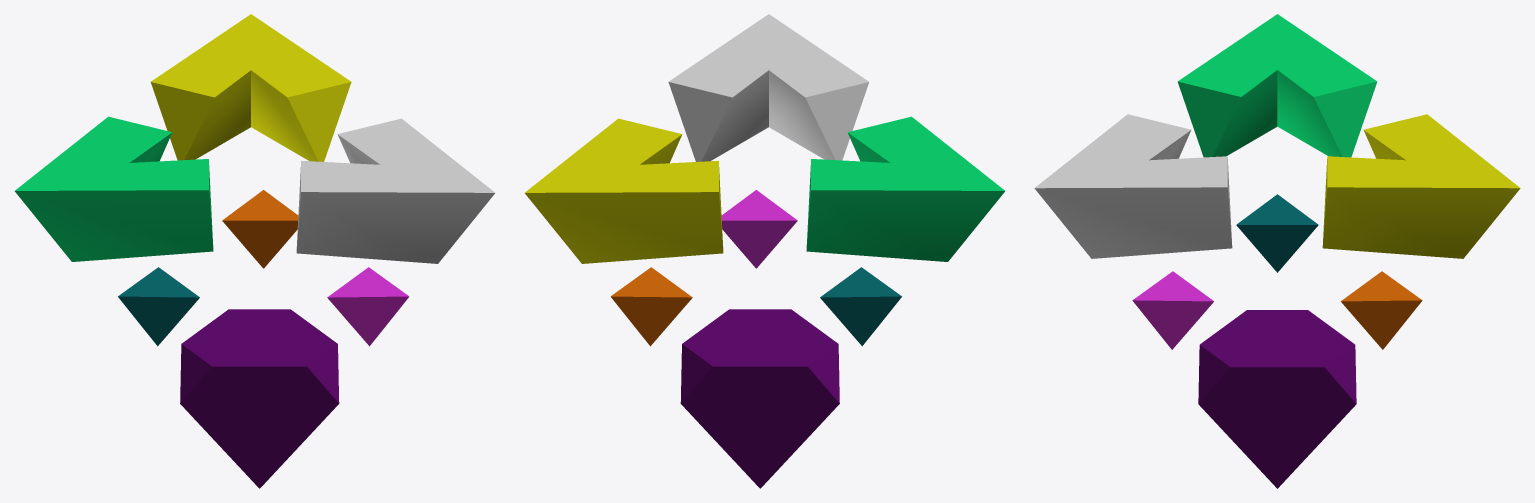
Rendered from item0.fbx.
3 views of the same model, side by side, from view 1: azimuth 30°, elevation 25°; view 2: azimuth 150°, elevation 25°; view 3: azimuth 270°, elevation 25° (orthographic).
Visible parts, largest first — view 1: bonusMesh; view 2: bonusMesh; view 3: bonusMesh.
Part boxes in pixels (x1,y1,x2,y2): bonusMesh: (15,14,494,488); bonusMesh: (525,14,1004,488); bonusMesh: (1034,14,1520,488).
Bounding box in the file's own units: 0.663 × 0.6302 × 0.7751.
